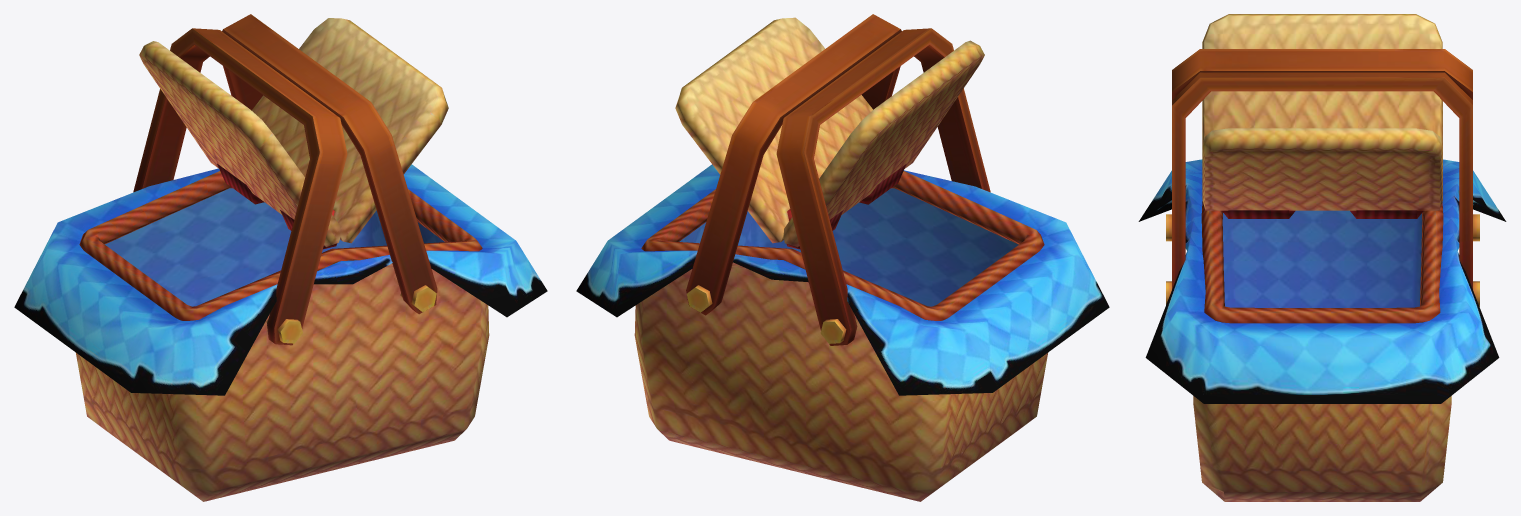
File: SE_Basket_05_SM.FBX
The picture shows the model from 3 angles, left to right: view 1: azimuth 30°, elevation 25°; view 2: azimuth 150°, elevation 25°; view 3: azimuth 270°, elevation 25°; orthographic projection.
Parts seen in each view (by area): view 1: SE_Basket_05_SM_LOD0; view 2: SE_Basket_05_SM_LOD0; view 3: SE_Basket_05_SM_LOD0.
Part boxes in pixels (x1,y1,x2,y2): SE_Basket_05_SM_LOD0: [14, 14, 547, 501]; SE_Basket_05_SM_LOD0: [576, 14, 1109, 501]; SE_Basket_05_SM_LOD0: [1138, 14, 1506, 501].
Size of what is drawn, in the model's own units: 273 by 206 by 238.
